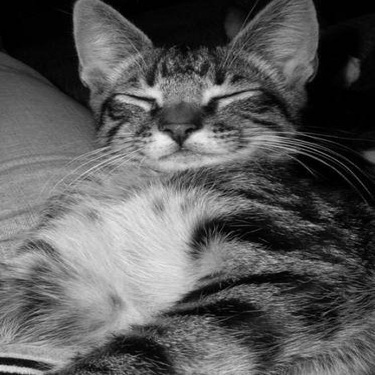cat: (10, 1, 371, 372)
